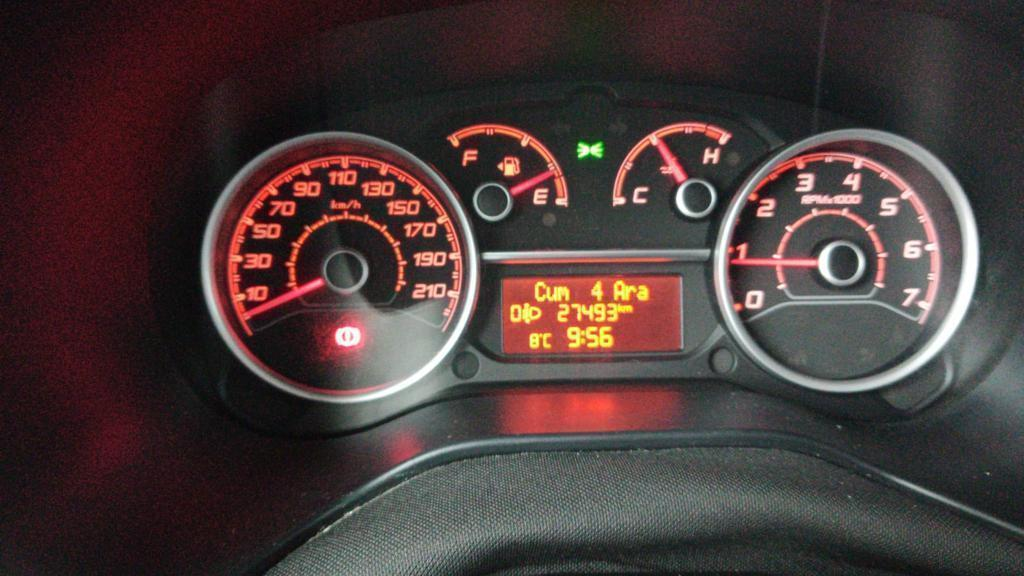0: (509, 303, 521, 322)
2: (556, 303, 569, 322)
3: (606, 302, 617, 322)
4: (589, 279, 603, 301), (581, 303, 593, 321)
5: (586, 325, 599, 347)
6: (599, 325, 613, 347)
7: (569, 303, 581, 321)
8: (528, 332, 539, 349)
9: (565, 325, 580, 348), (593, 302, 605, 322)
X: (533, 280, 546, 302), (612, 279, 624, 301), (636, 284, 650, 301), (556, 285, 570, 302), (624, 283, 636, 301), (546, 284, 556, 302), (542, 332, 552, 349), (622, 304, 632, 312), (580, 329, 585, 344), (617, 302, 622, 312)
odometer: (497, 268, 687, 360)
